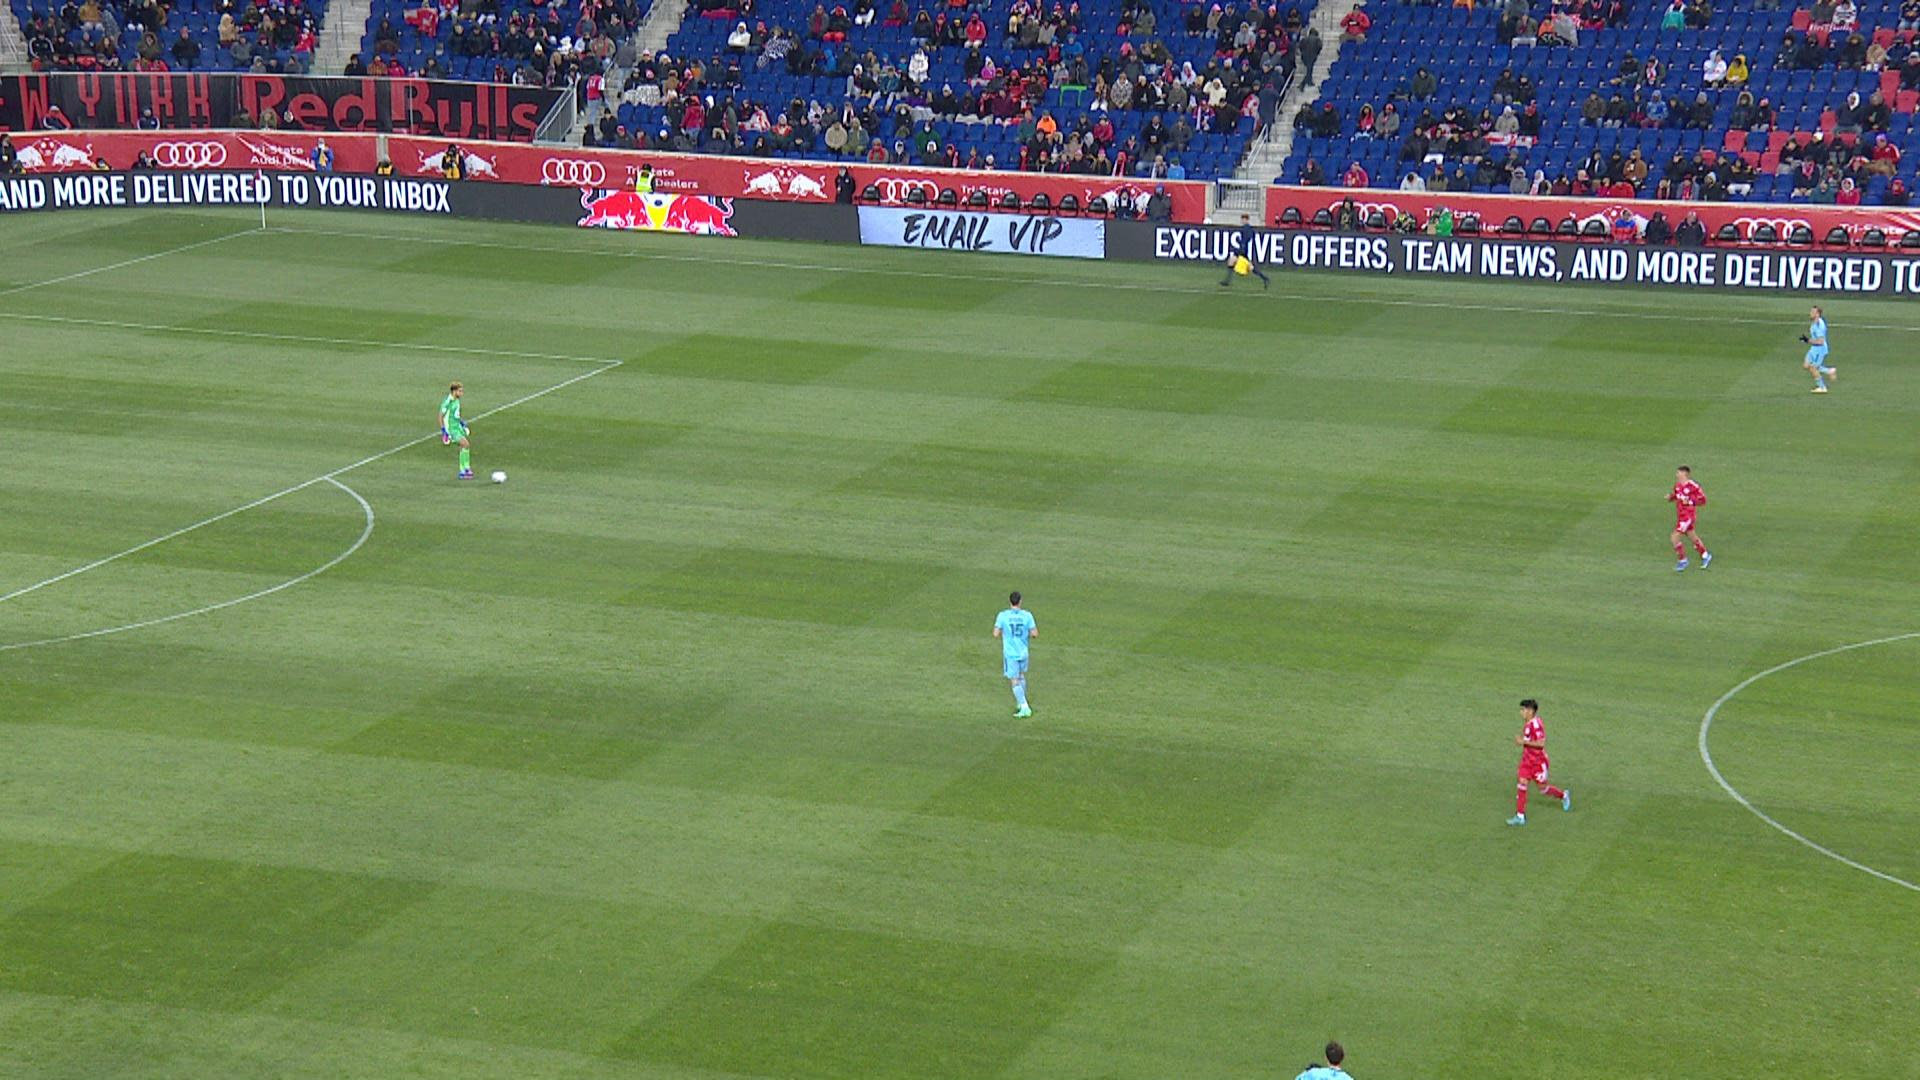football: (492, 471, 508, 484)
